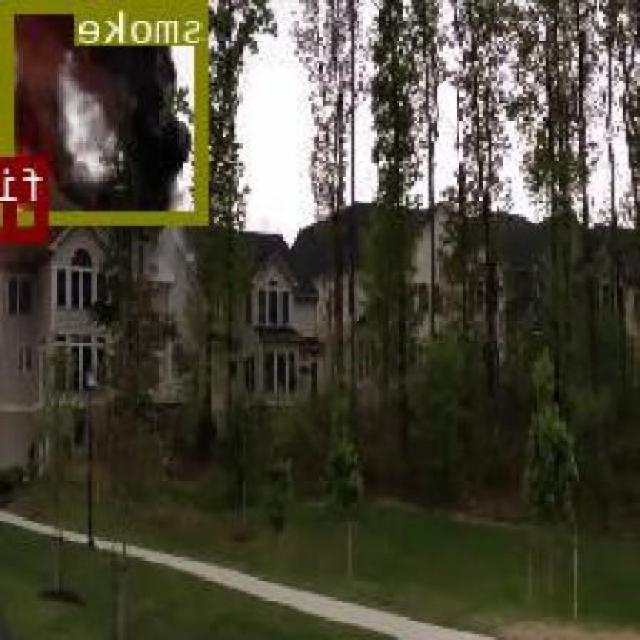Fire: (6, 156, 51, 239)
Smoke: (5, 0, 212, 220)
